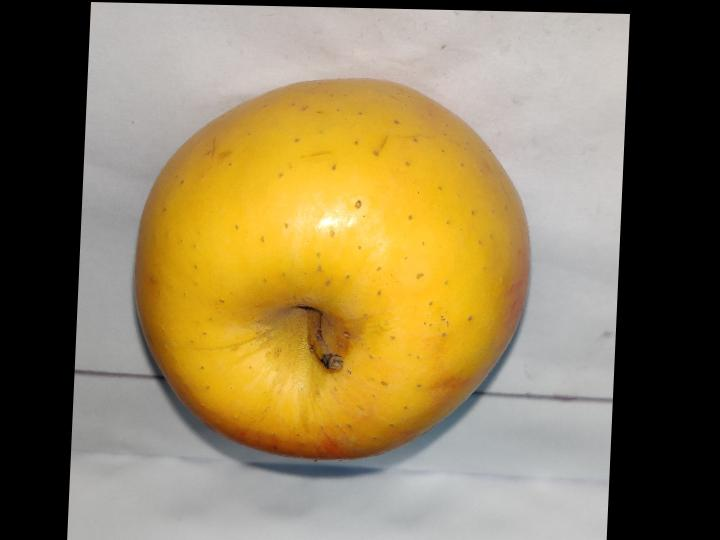apple: (135, 80, 528, 460)
